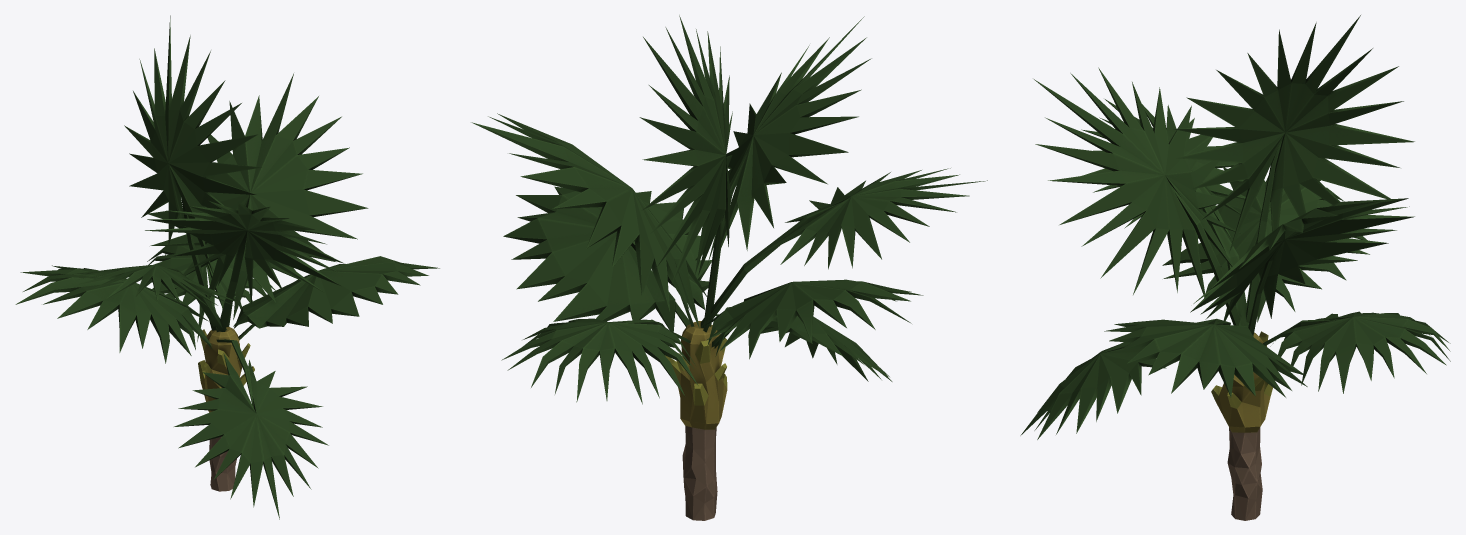
Rendered from 4c50be91-2d18-46c2-bfcf-a28660778464.glb.
3 views of the same model, side by side, from view 1: azimuth 30°, elevation 25°; view 2: azimuth 150°, elevation 25°; view 3: azimuth 270°, elevation 25° (orthographic). The views are drawn at different scales.
Visible parts, largest first — view 1: KeyThatchPalmTree_mesh; view 2: KeyThatchPalmTree_mesh; view 3: KeyThatchPalmTree_mesh.
Part boxes in pixels (box(x1,y1,x2,y2)): KeyThatchPalmTree_mesh: box(15, 15, 439, 519); KeyThatchPalmTree_mesh: box(471, 15, 987, 520); KeyThatchPalmTree_mesh: box(1020, 15, 1450, 520).
Bounding box in the file's own units: 9.84 × 10.82 × 8.48.
1 material, 1 textured.
